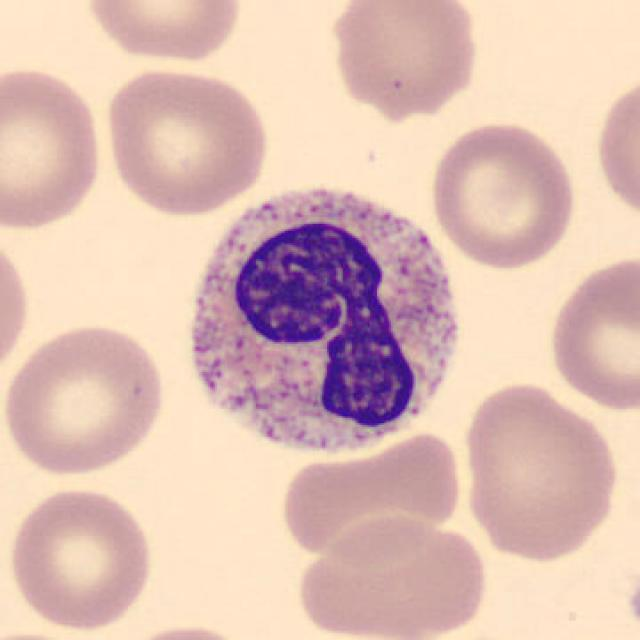Neutrophil: (165, 170, 471, 474)
RBC: (459, 377, 624, 564), (0, 317, 169, 478), (276, 427, 466, 568), (100, 64, 272, 218), (291, 509, 490, 640), (425, 116, 581, 272), (4, 483, 158, 633), (326, 0, 484, 120), (0, 62, 107, 235), (544, 250, 640, 416), (82, 0, 247, 67), (592, 69, 638, 229), (0, 227, 34, 388), (110, 620, 261, 640)
